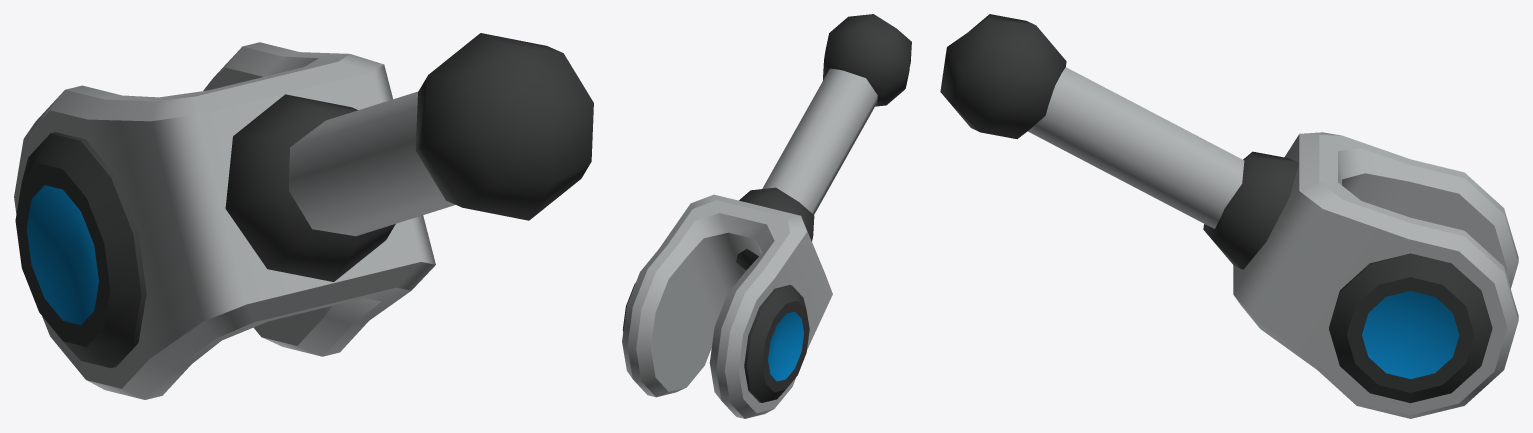
Rendered from Drone_002_R_Arm_002.fbx.
3 views of the same model, side by side, from view 1: azimuth 30°, elevation 25°; view 2: azimuth 150°, elevation 25°; view 3: azimuth 270°, elevation 25° (orthographic). The views are drawn at different scales.
Parts seen in each view (by area): view 1: Drone_002_R_Arm_002; view 2: Drone_002_R_Arm_002; view 3: Drone_002_R_Arm_002.
Boxes of the visible parts, x1,y1,x2,y2 form: Drone_002_R_Arm_002: [14, 33, 593, 399]; Drone_002_R_Arm_002: [622, 14, 911, 418]; Drone_002_R_Arm_002: [940, 14, 1518, 418].
Size of the model in its own units: 7 by 18.65 by 13.08.
